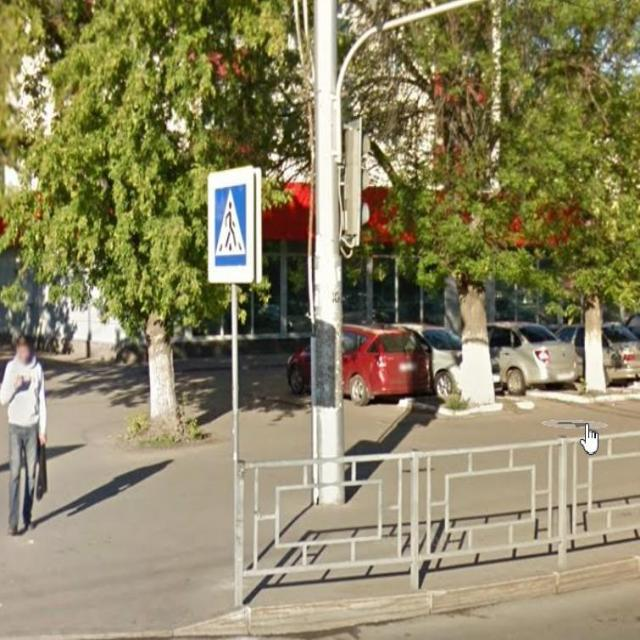traffic_sign: (205, 166, 257, 287)
